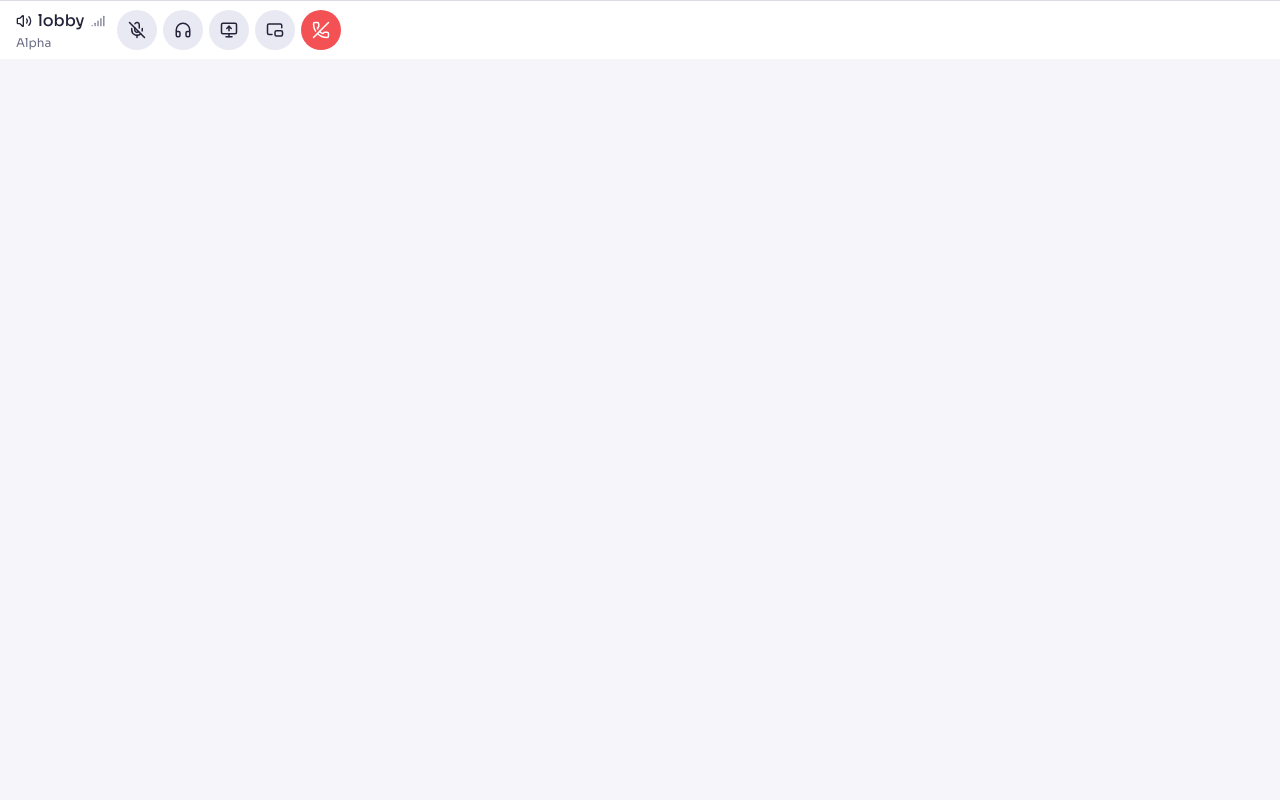
VoiceConnectionBar › screen share › opens the quality modal instead of toggling immediately when starting to share
Expected: the text "Alpha" is shown, [16,35,51,50]
Click the button named "Share screen".
click(228, 30)  # box [208,10,248,50]
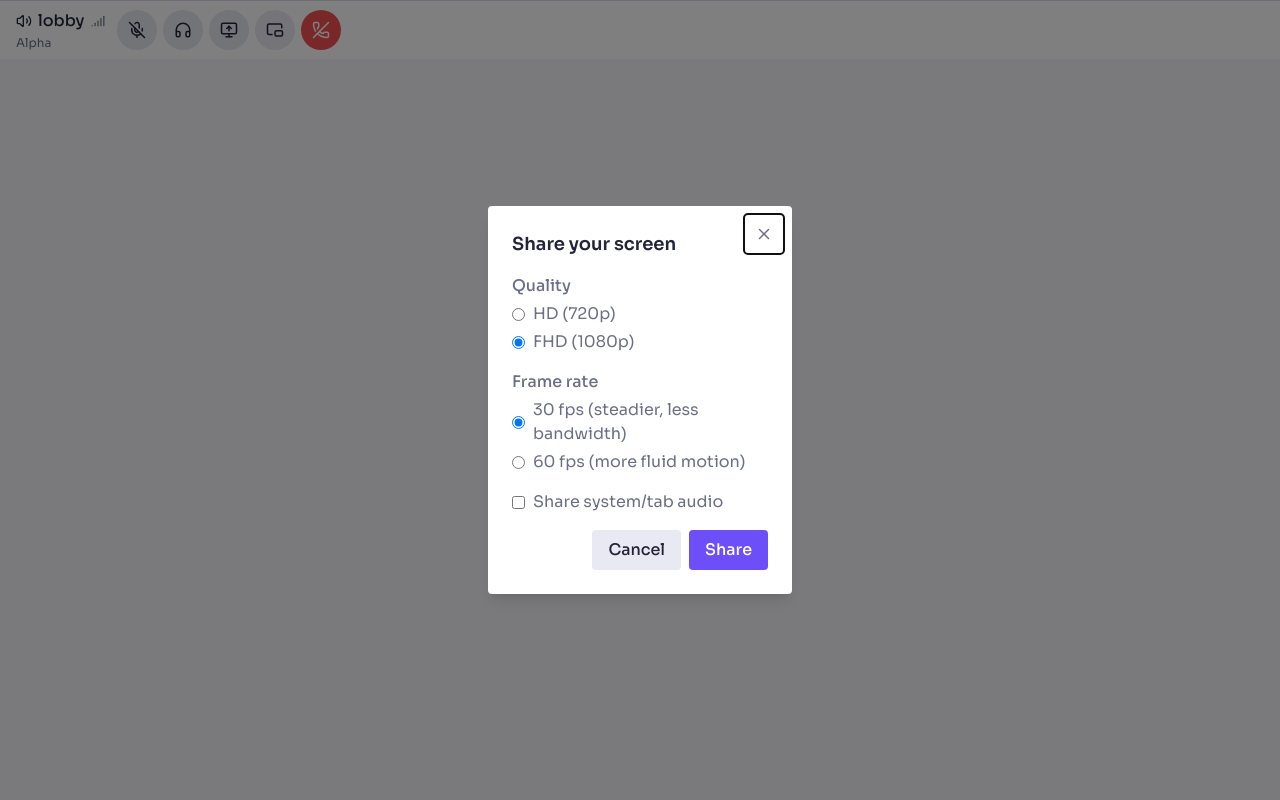
Expected: the heading "Share your screen" is shown, [512,233,676,255]
